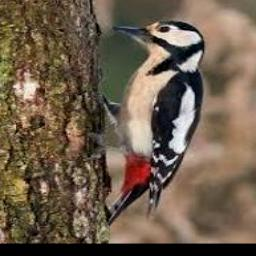Woodpecker: (80, 20, 204, 224)
